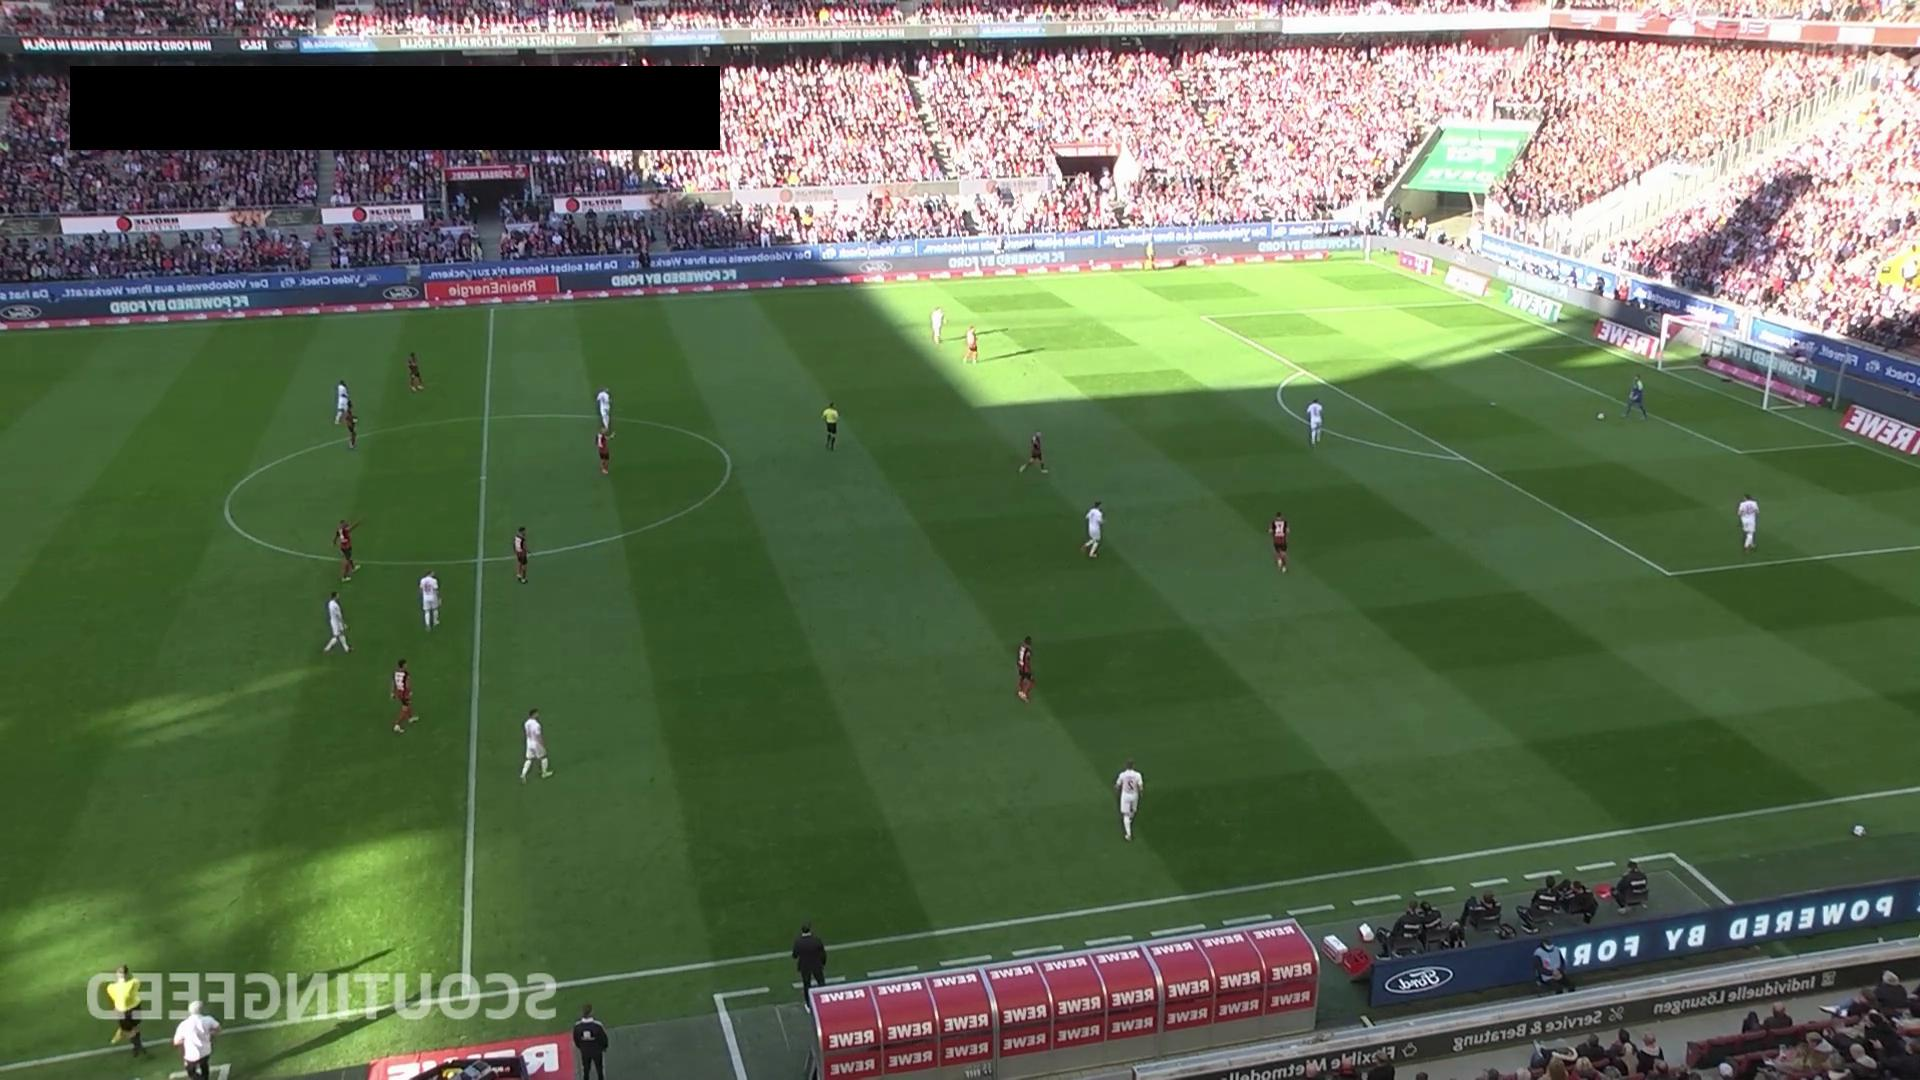ball: (1596, 412, 1605, 422)
goalkeeper: (1622, 373, 1648, 421)
player: (519, 707, 554, 784), (1114, 757, 1144, 841), (391, 658, 418, 734), (324, 590, 352, 653), (334, 518, 360, 582), (334, 380, 356, 450), (1080, 500, 1105, 559), (419, 569, 441, 633), (1737, 491, 1759, 552), (1019, 431, 1049, 475), (1269, 509, 1289, 574), (1017, 635, 1035, 704), (595, 427, 617, 475), (341, 399, 359, 452), (1305, 397, 1324, 446), (513, 526, 529, 583), (406, 351, 425, 392), (596, 386, 612, 433), (930, 305, 946, 344), (963, 325, 979, 364)
referee: (107, 963, 147, 1058), (822, 400, 839, 451), (1142, 237, 1158, 272)
